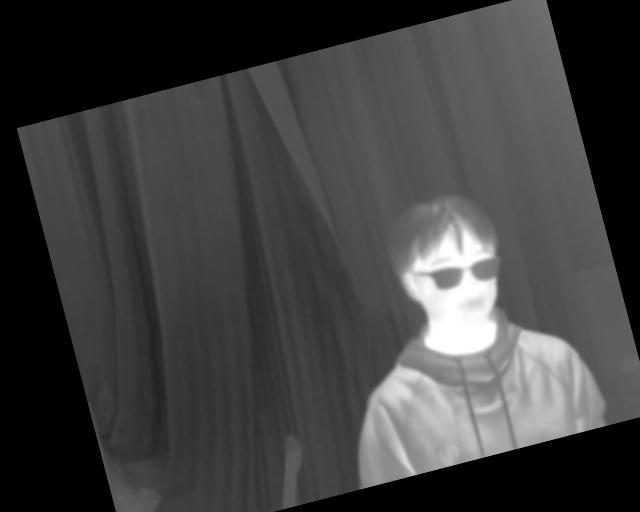face: (378, 184, 517, 339)
